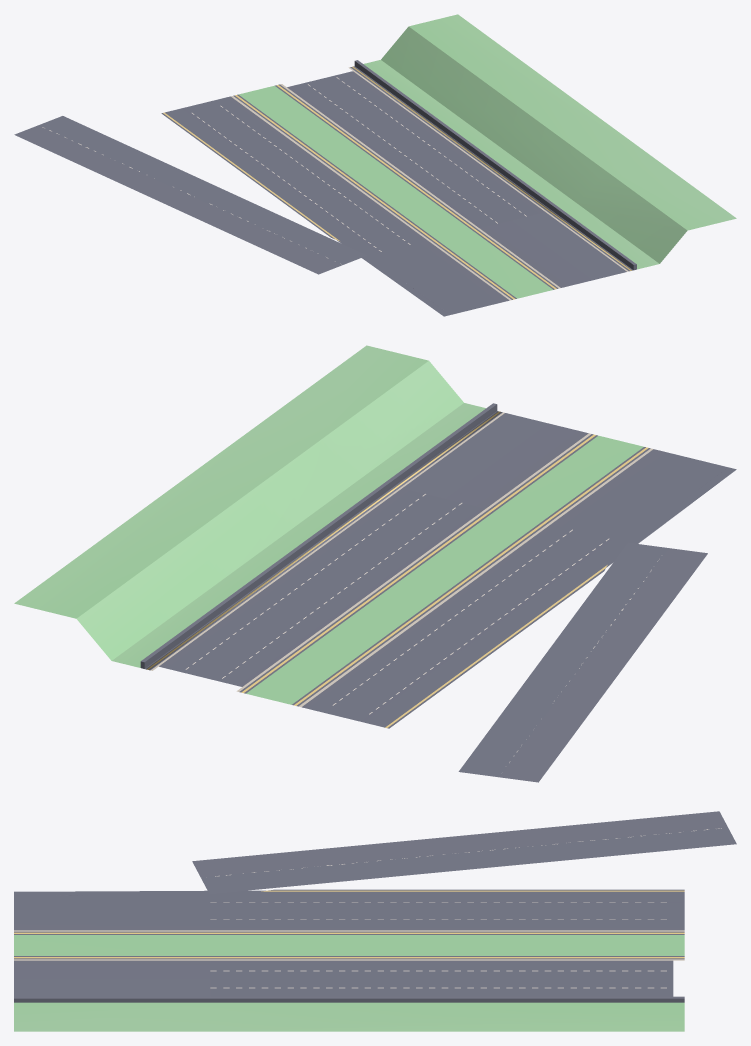
File: Road adjust.fbx
3 renders of one model, top to bottom at view 1: azimuth 30°, elevation 25°; view 2: azimuth 150°, elevation 25°; view 3: azimuth 270°, elevation 25°, orthographic. The views are drawn at different scales.
Visible parts, largest first — view 1: Road22.001, Road43; view 2: Road22.001, Road43; view 3: Road22.001, Road43.
Part boxes in pixels (x1,y1,x2,y2): Road22.001: (161, 14, 736, 316); Road43: (14, 116, 366, 274); Road22.001: (14, 345, 736, 728); Road43: (458, 542, 707, 782); Road22.001: (14, 889, 684, 1031); Road43: (192, 811, 736, 893).
Size of the model in its own units: 162 by 9.61 by 197.
